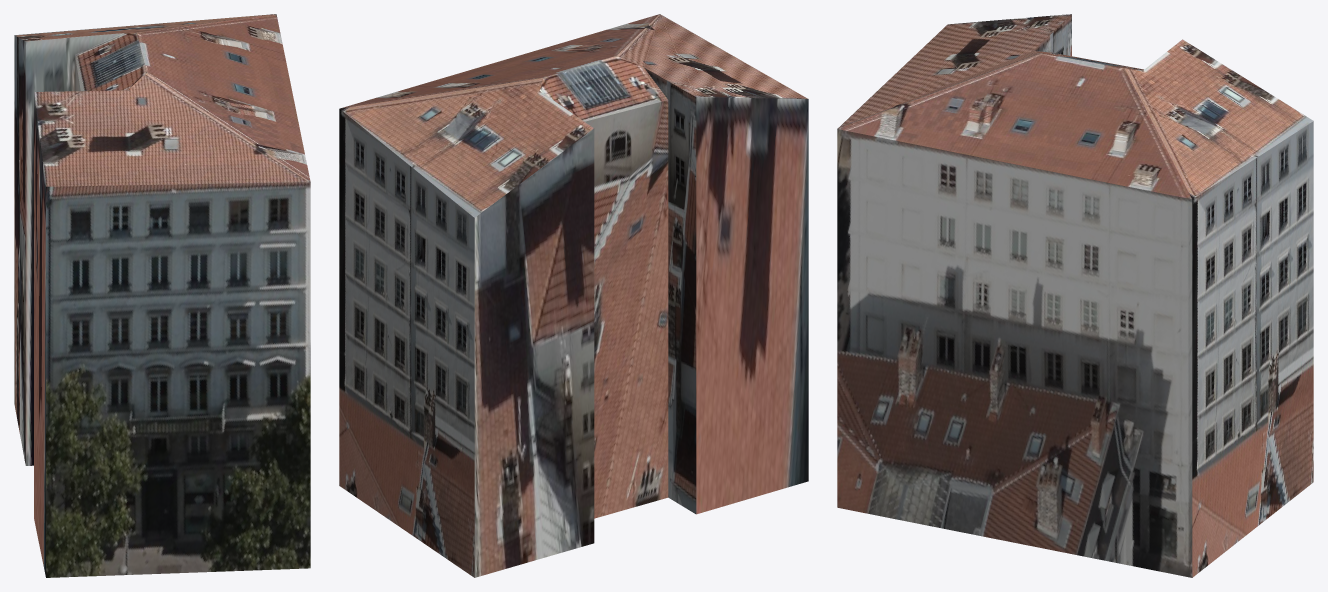
The picture shows the model from 3 angles, left to right: view 1: azimuth 30°, elevation 25°; view 2: azimuth 150°, elevation 25°; view 3: azimuth 270°, elevation 25°; orthographic projection. The views are drawn at different scales.
Visible parts, largest first — view 1: Z_UP; view 2: Z_UP; view 3: Z_UP.
Part boxes in pixels (box(x1,y1,x2,y2)): Z_UP: box(14, 14, 310, 577); Z_UP: box(339, 14, 808, 577); Z_UP: box(837, 14, 1313, 577).
Size of the model in its own units: 25.92 by 30.33 by 30.72.
Materials: 2 (1 with a texture image).
